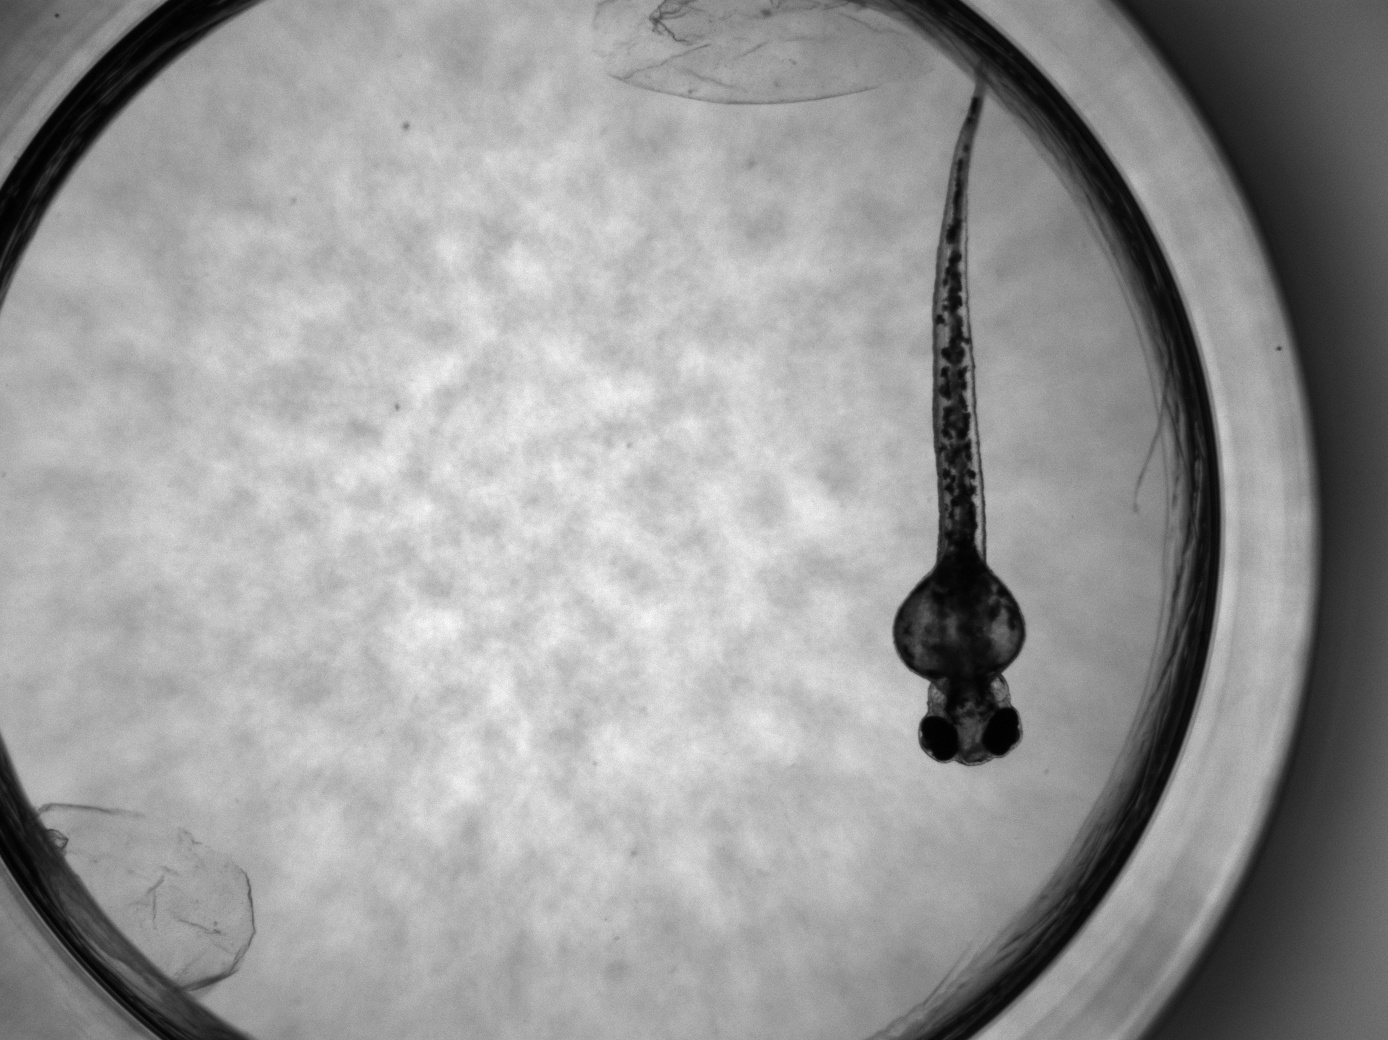debris: (20, 795, 256, 1004), (594, 1, 932, 105)
embryo: (893, 67, 1028, 767)
eye: (918, 716, 959, 763), (982, 707, 1020, 755)
yolksac: (894, 565, 1029, 681)
